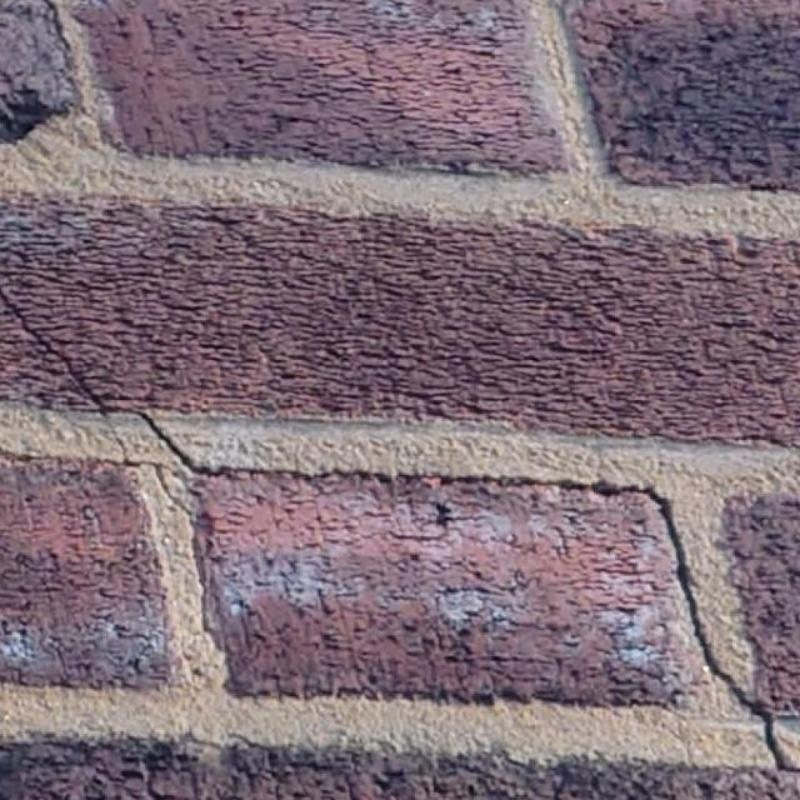pothole: (140, 417, 800, 771), (0, 289, 193, 516)
